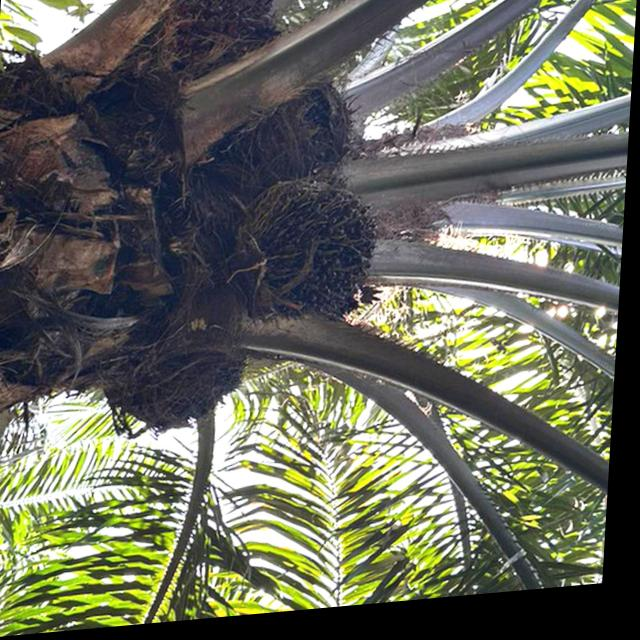unripe: (217, 172, 397, 342)
